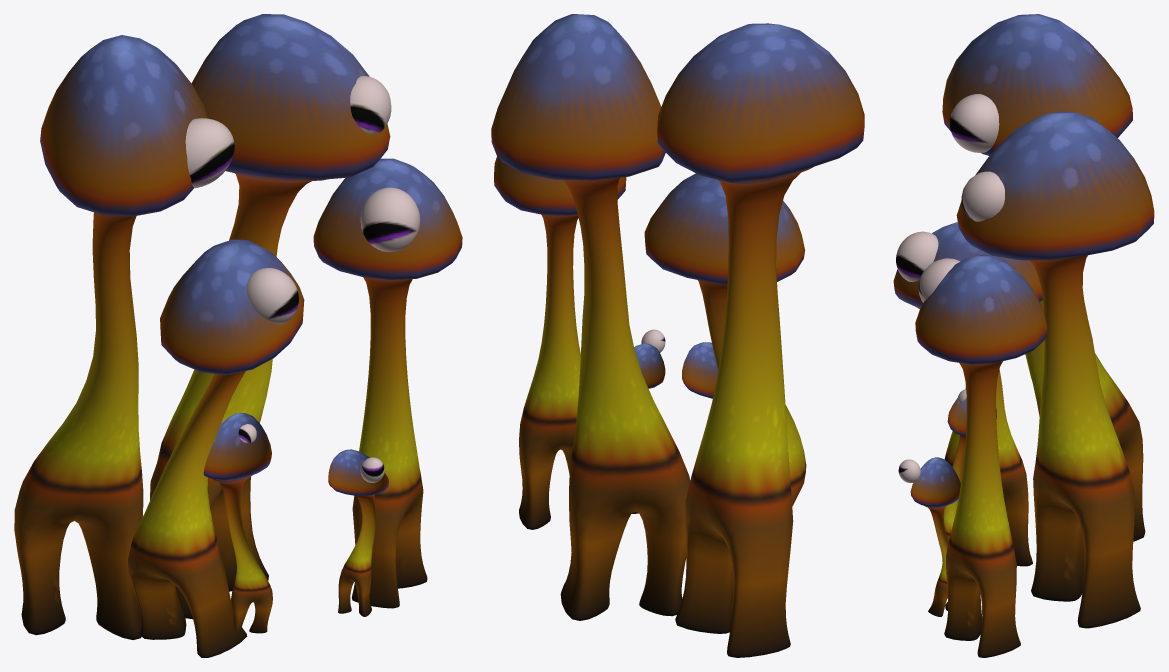
The model's file is Shroom1Cluster3.fbx.
3 views of the same model, side by side, from view 1: azimuth 30°, elevation 25°; view 2: azimuth 150°, elevation 25°; view 3: azimuth 270°, elevation 25° (orthographic). The views are drawn at different scales.
Parts seen in each view (by area): view 1: Shroom1Cluster3; view 2: Shroom1Cluster3; view 3: Shroom1Cluster3.
Part boxes in pixels (x1=…): Shroom1Cluster3: x1=14, y1=14, x2=462, y2=657; Shroom1Cluster3: x1=491, y1=14, x2=864, y2=657; Shroom1Cluster3: x1=893, y1=14, x2=1154, y2=657.
Size of the model in its own units: 6.89 by 10.6 by 4.64.
